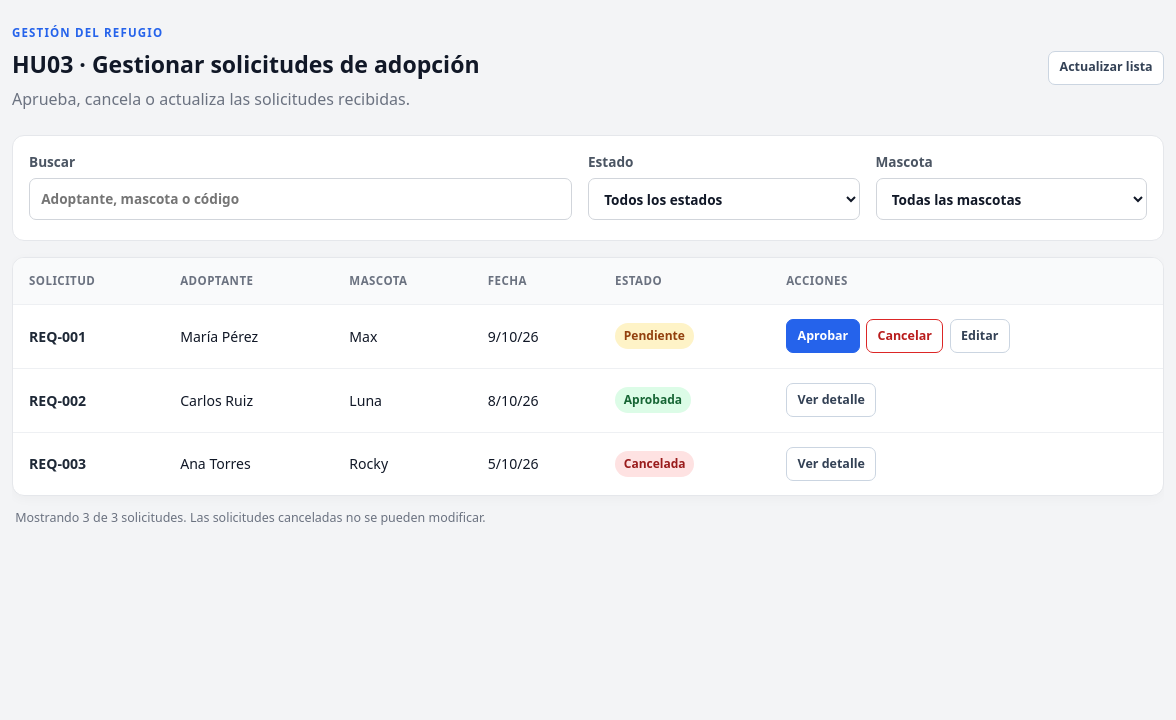
Test case: HU03 - gestionar solicitudes de adopción › no encuentra coincidencias si la búsqueda no coincide
This screenshot has width=1176, height=720.
Expected: the heading "HU03 · Gestionar solicitudes de adopción" is shown, left=12, top=47, right=480, bottom=82
Type "Persona inexistente" into the field with placeholder "Adoptante, mascota o código" at (300, 199), box left=29, top=178, right=572, bottom=220
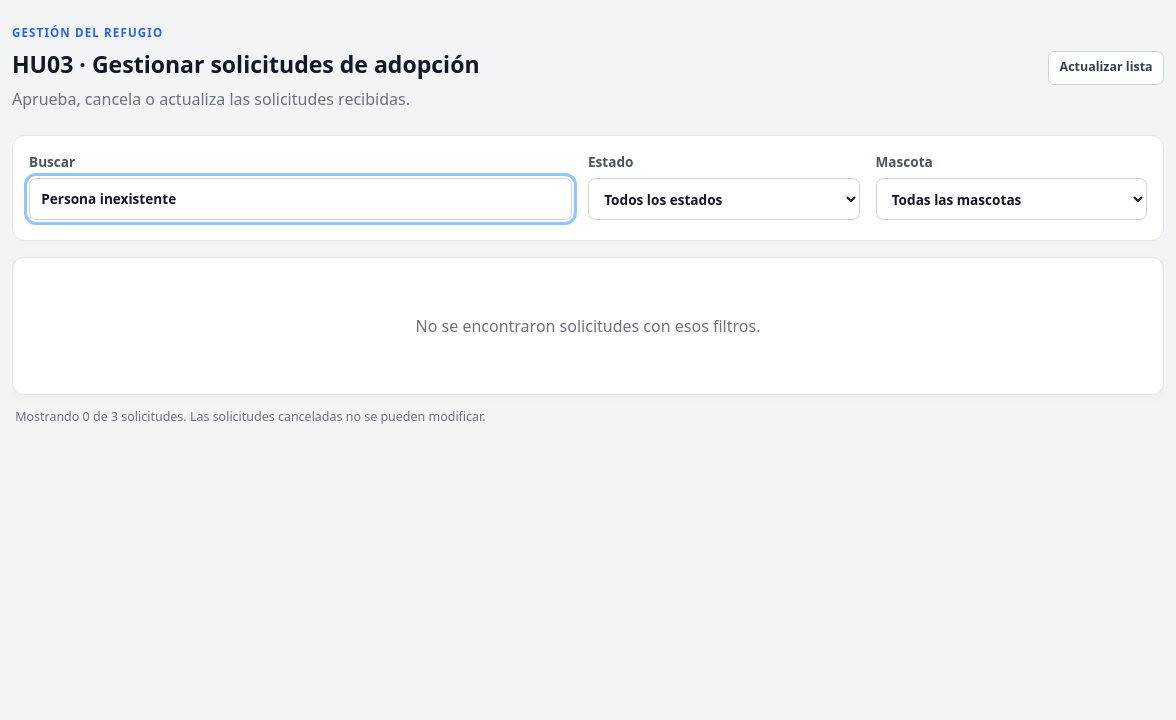
Expected: the text "No se encontraron solicitudes con esos filtros." is shown, left=416, top=315, right=760, bottom=337
